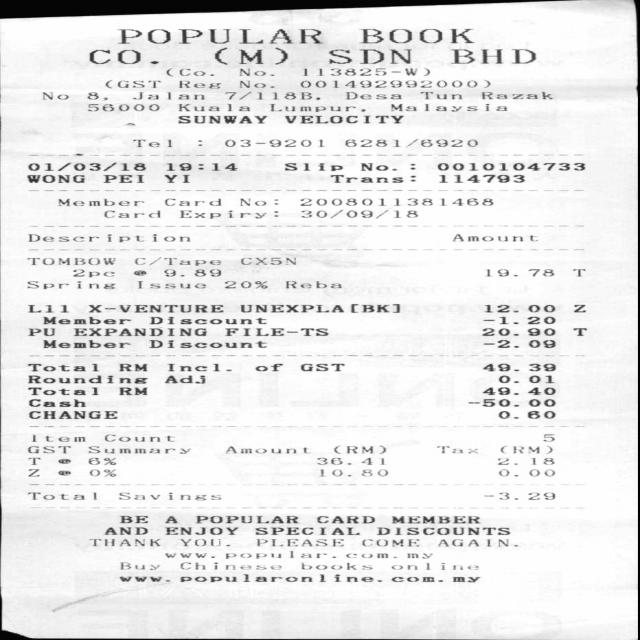text: (117, 29, 321, 43), (178, 574, 477, 582), (224, 550, 430, 558), (360, 29, 472, 43), (299, 80, 489, 88), (298, 198, 491, 205), (214, 46, 286, 64), (28, 234, 189, 242), (240, 304, 398, 312), (329, 49, 411, 64), (450, 49, 534, 63), (88, 304, 222, 312), (376, 527, 509, 535), (27, 162, 144, 171), (436, 163, 584, 170), (90, 49, 158, 64), (303, 67, 428, 75), (27, 374, 146, 382), (284, 115, 402, 123), (147, 340, 264, 348), (298, 210, 414, 218), (343, 139, 475, 146), (73, 328, 205, 335), (147, 316, 264, 323), (195, 515, 297, 523), (388, 104, 504, 111), (117, 492, 218, 500), (180, 210, 277, 218), (224, 92, 318, 100), (270, 104, 364, 112), (254, 527, 359, 534), (223, 328, 326, 335), (86, 446, 189, 453), (177, 115, 265, 123), (391, 515, 479, 523), (26, 281, 113, 289), (41, 340, 128, 348), (56, 198, 142, 206), (134, 257, 220, 265), (224, 139, 321, 146), (330, 174, 414, 182), (450, 233, 534, 241), (40, 316, 128, 323), (28, 411, 116, 418), (466, 399, 553, 406), (256, 539, 342, 546), (437, 175, 522, 182), (180, 563, 279, 569), (482, 340, 556, 348), (481, 363, 554, 371), (481, 387, 554, 395), (482, 492, 554, 500), (479, 91, 550, 99), (482, 304, 553, 312), (483, 316, 554, 324), (225, 446, 306, 453), (27, 363, 97, 371), (26, 387, 96, 395), (89, 538, 158, 546), (438, 539, 516, 546), (315, 457, 383, 465), (27, 258, 114, 264), (391, 563, 477, 569), (164, 527, 237, 534), (482, 328, 554, 335), (166, 363, 229, 371), (132, 92, 203, 99), (164, 163, 235, 170), (317, 469, 387, 476), (102, 434, 171, 441), (485, 269, 553, 276), (27, 492, 95, 499), (136, 281, 203, 288), (284, 162, 342, 170), (28, 398, 85, 406), (316, 515, 373, 523), (104, 80, 160, 88), (344, 91, 400, 99), (164, 198, 220, 206), (498, 375, 552, 383), (87, 104, 158, 110), (177, 104, 248, 110), (300, 563, 370, 569), (497, 411, 554, 418), (497, 469, 554, 476), (27, 175, 83, 182), (497, 457, 553, 464), (362, 539, 417, 546), (165, 68, 213, 76), (180, 538, 228, 546), (104, 210, 158, 217), (286, 280, 340, 287), (29, 434, 82, 441), (498, 446, 550, 453), (298, 363, 343, 371), (332, 446, 383, 453), (178, 80, 220, 88), (240, 258, 294, 264), (420, 91, 460, 99), (164, 374, 204, 382), (131, 139, 170, 147), (102, 527, 146, 534), (120, 562, 158, 570), (27, 446, 70, 453), (117, 576, 167, 582), (360, 162, 397, 170), (224, 281, 266, 288), (72, 269, 113, 276), (27, 305, 67, 312), (103, 175, 142, 182), (436, 446, 475, 453), (239, 68, 273, 76), (239, 80, 273, 88), (238, 198, 276, 205), (118, 363, 146, 371), (118, 387, 146, 395), (119, 515, 146, 523), (163, 553, 212, 557), (253, 364, 280, 371), (40, 92, 66, 99), (28, 328, 54, 335), (89, 469, 115, 476), (164, 175, 188, 182), (196, 269, 220, 276), (86, 458, 113, 464), (86, 92, 106, 100), (164, 270, 183, 276), (163, 515, 175, 523), (571, 328, 584, 335), (572, 304, 583, 312), (543, 434, 554, 441), (28, 457, 39, 464), (27, 469, 38, 476), (572, 269, 582, 276), (133, 270, 145, 275), (56, 458, 68, 463), (56, 470, 68, 475)
